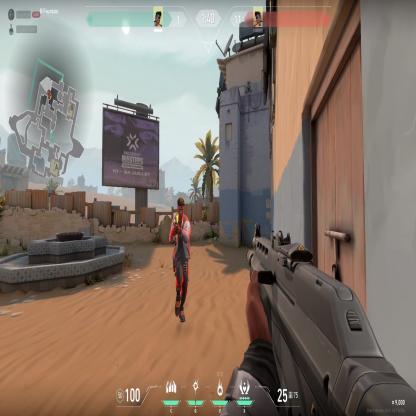enemy: (168, 195, 192, 323)
